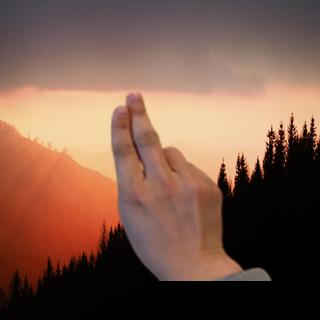DHAVE: (102, 84, 226, 271)
